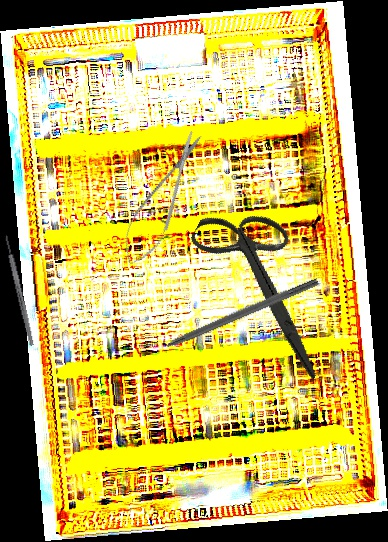Hook Surgical: (141, 275, 320, 360)
Iris Scissors: (158, 190, 371, 382)
Micro Scissor: (113, 125, 213, 272)
Scalpel Handle: (3, 234, 35, 347)
